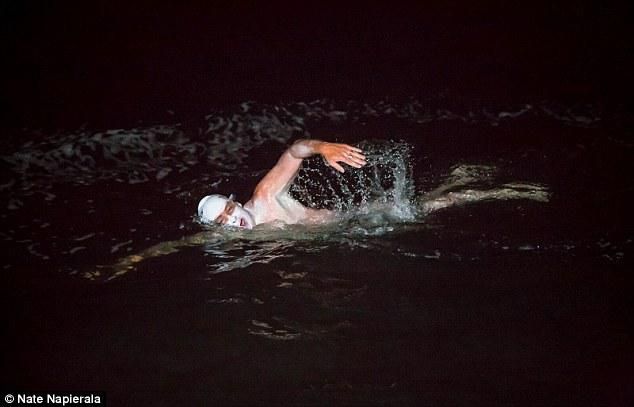swimmer: (112, 136, 542, 266)
